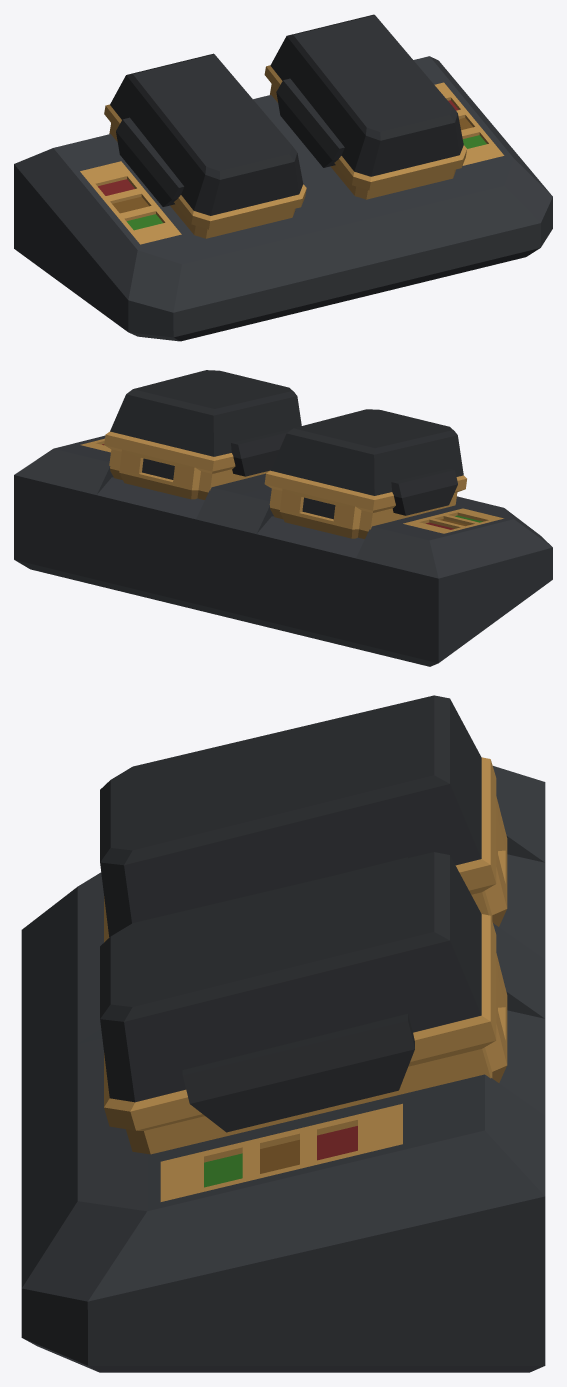
The model's file is SM_Prop_Battery_Charger_Dual_01.fbx.
3 renders of one model, top to bottom at view 1: azimuth 30°, elevation 25°; view 2: azimuth 150°, elevation 25°; view 3: azimuth 270°, elevation 25°, orthographic. The views are drawn at different scales.
Parts seen in each view (by area): view 1: SM_Prop_Battery_Charger_Dual_01; view 2: SM_Prop_Battery_Charger_Dual_01; view 3: SM_Prop_Battery_Charger_Dual_01.
Part boxes in pixels (left/top/right/bottom): SM_Prop_Battery_Charger_Dual_01: left=14, top=14, right=552, bottom=341; SM_Prop_Battery_Charger_Dual_01: left=14, top=370, right=552, bottom=666; SM_Prop_Battery_Charger_Dual_01: left=21, top=695, right=545, bottom=1372.
Bounding box in the file's own units: 42.34 × 17.34 × 22.6.
